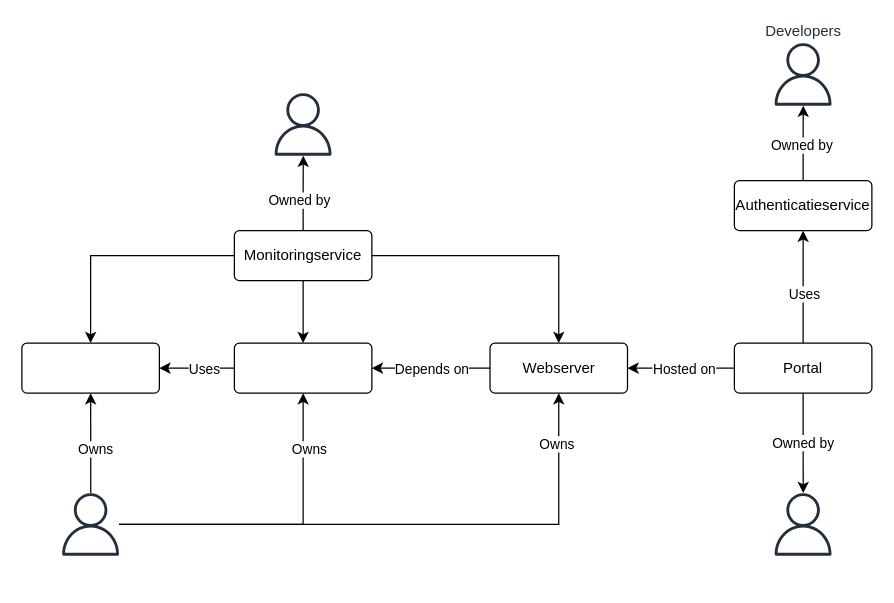
Image size: 894x603. Some labels were removed from this diagram. The shapes that lost their labels are listed below. From the top down, each one's centre as x and y in pixels, then its label:
At point 90,367: "Database".
At point 302,367: "Applicatieserver".
At point 802,523: "ProductOwner".
